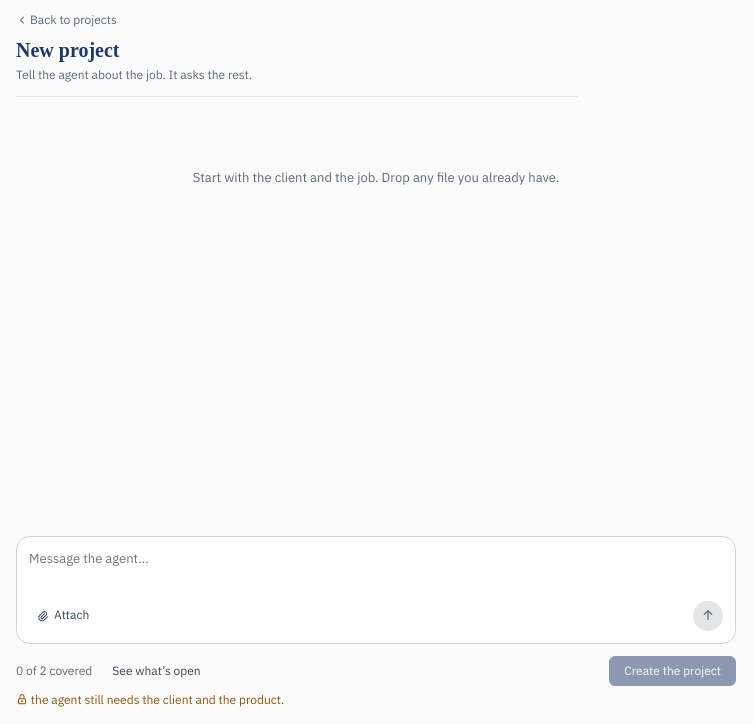
the interview screen › streams the reply as it arrives, and keeps what the operator said
This screenshot has width=753, height=724.
Step 1. Type "Acme, PET bottles." into the text box → (376, 571), box top-left (29, 549), bottom-right (723, 593)
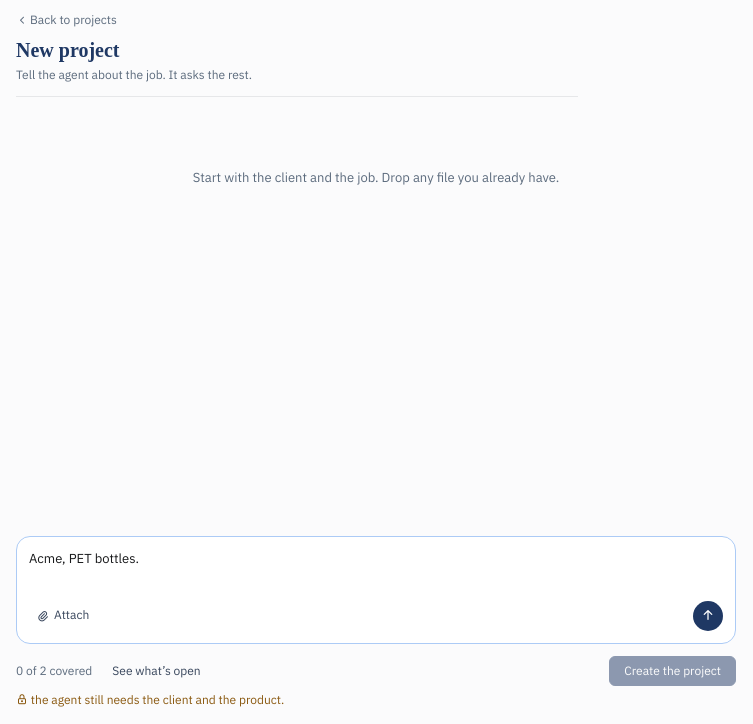
Step 2. Click the button named "send" → click(708, 616), box top-left (693, 601), bottom-right (723, 631)
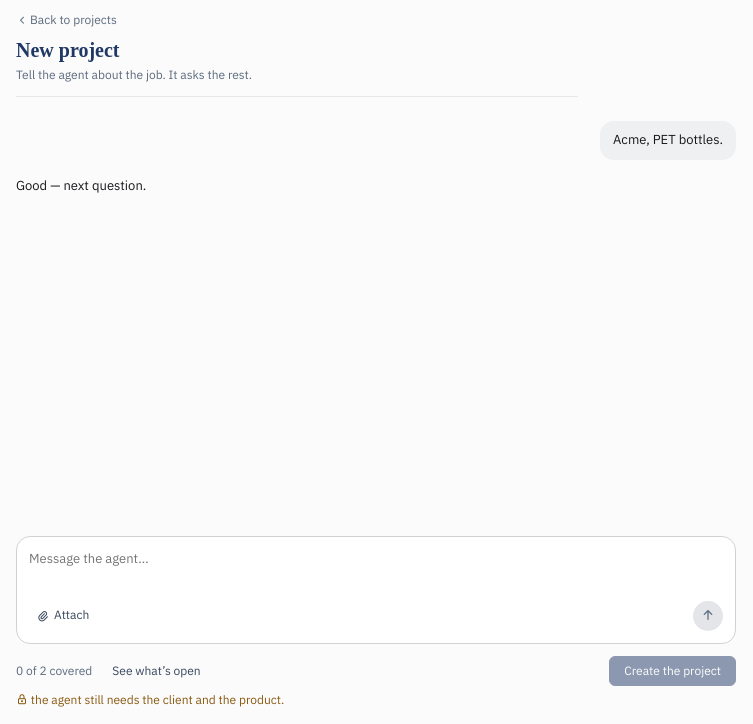
Expected: the text "Acme, PET bottles." is shown, top-left (600, 121), bottom-right (736, 160)
Expected: the text "Good — next question." is shown, top-left (16, 177), bottom-right (146, 194)
